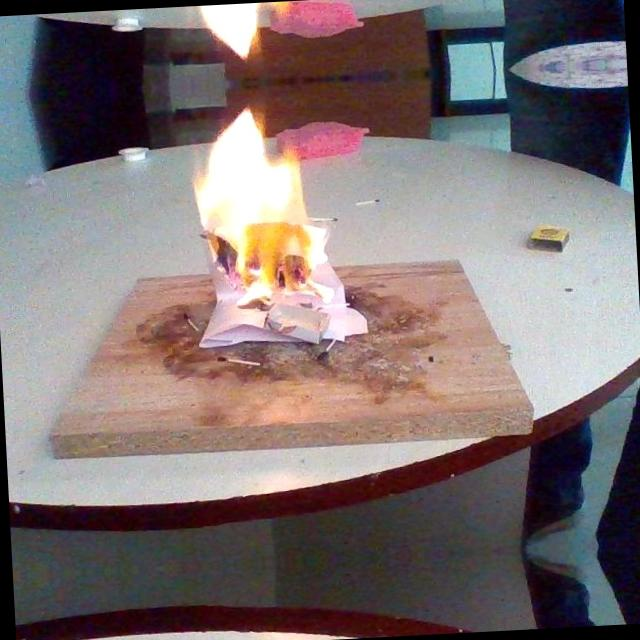fire: (164, 83, 383, 353)
